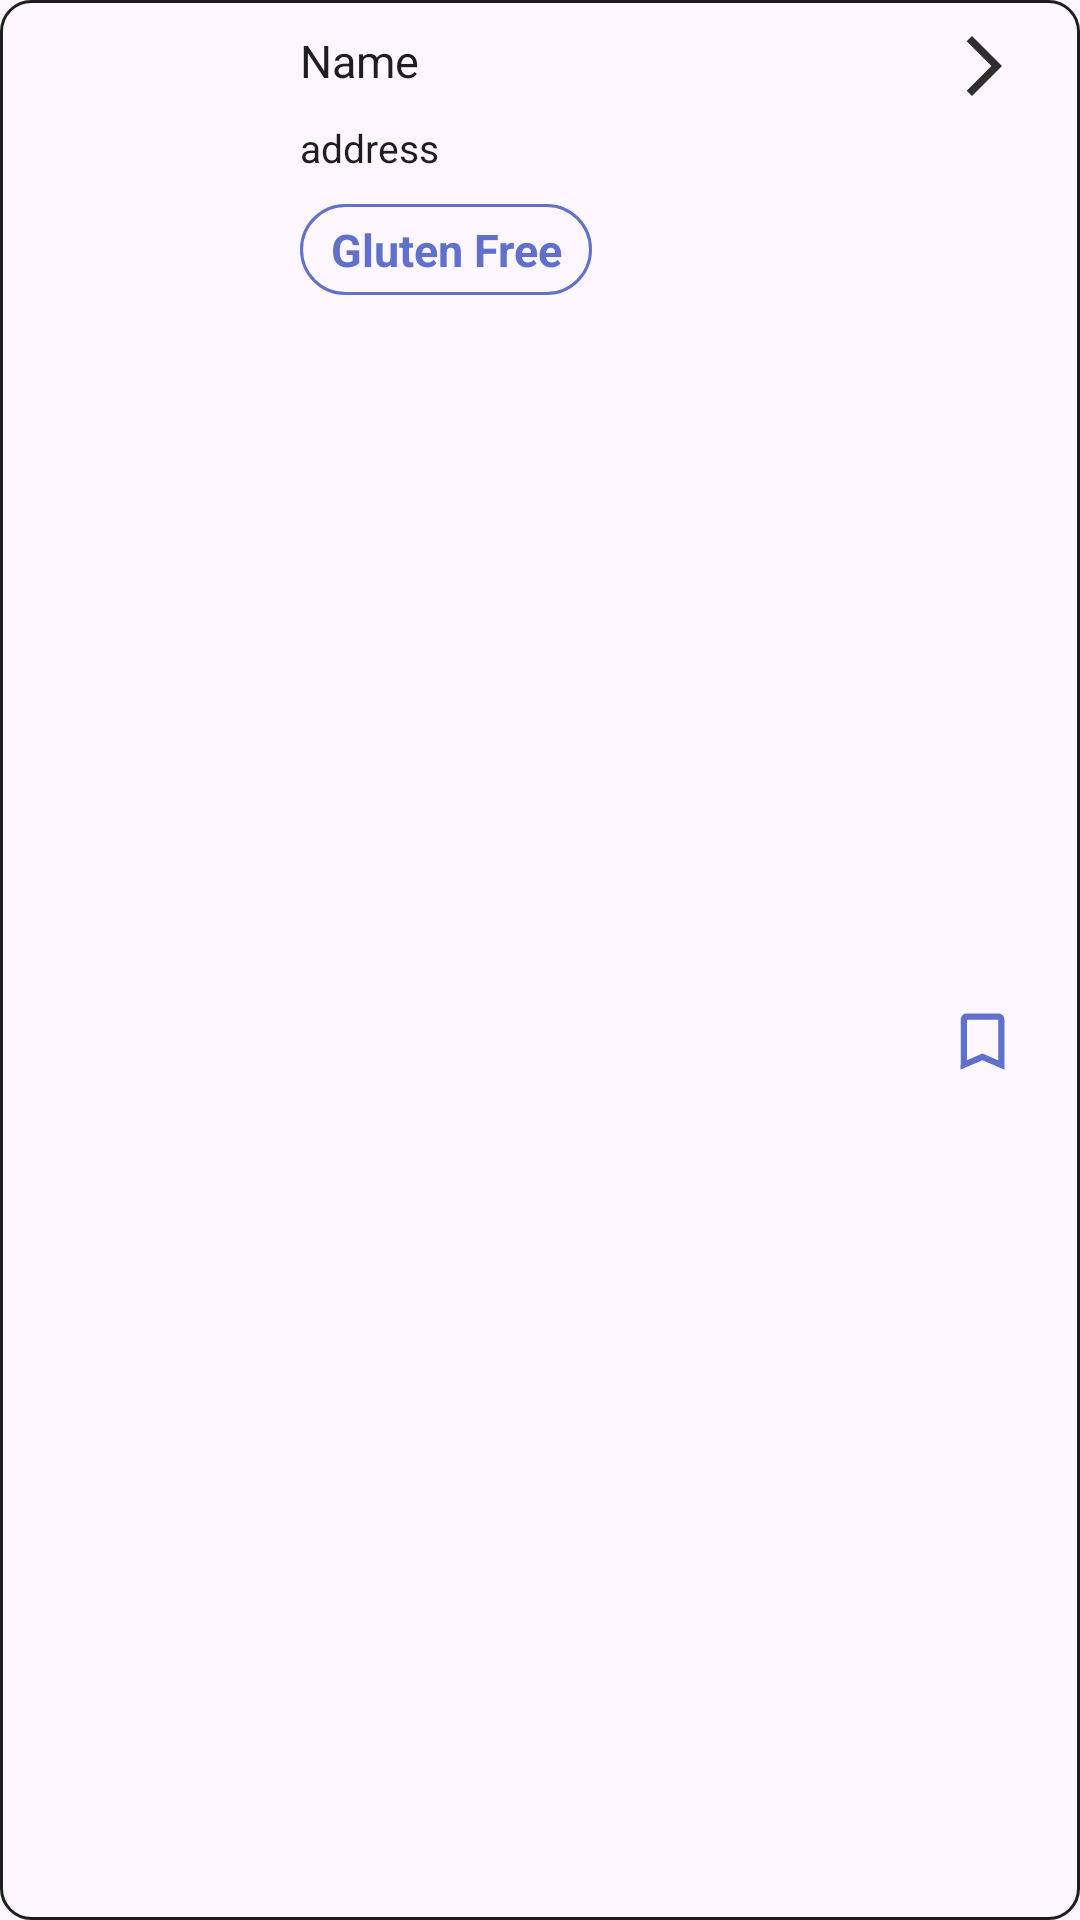

Point at icon controls on the screen. Image size 1080 x 1920, points as point (x, y).
arrow forward: point (984, 66)
